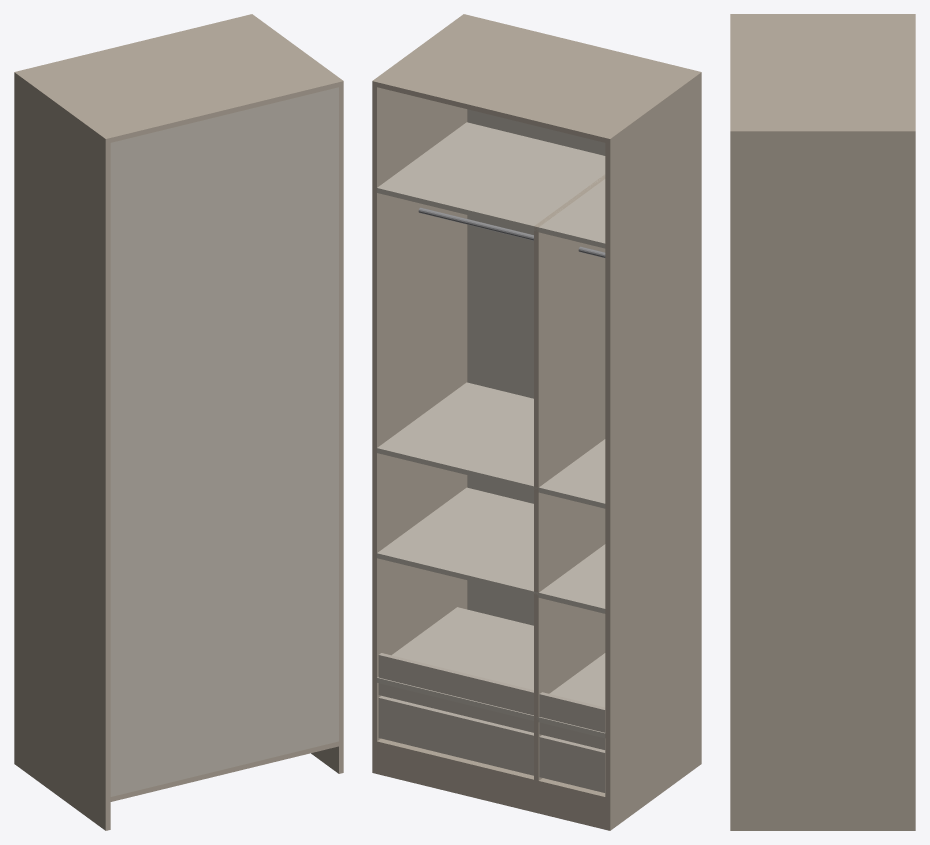
3 renders of one model, left to right at view 1: azimuth 30°, elevation 25°; view 2: azimuth 150°, elevation 25°; view 3: azimuth 270°, elevation 25°, orthographic.
Parts seen in each view (by area): view 1: 004_ARKALIK, 000_GOVDE_SOL, 002_GOVDE_UST, 001_GOVDE_SAG, 003_GOVDE_ALT; view 2: 000_GOVDE_SOL, 001_GOVDE_SAG, 006_IC_DIKME, 002_GOVDE_UST, 010_RAF_4, 004_ARKALIK, 008_RAF_2, 009_RAF_3, 011_CEKMECE_ON_1, 014_CEKMECE_KUTU_2, 013_CEKMECE_ON_2, 005_BAZA (+3 smaller); view 3: 001_GOVDE_SAG, 002_GOVDE_UST, 000_GOVDE_SOL.
Boxes of the visible parts, x1,y1,x2,y2 form: 004_ARKALIK: (110,87,338,796); 000_GOVDE_SOL: (14,71,110,830); 002_GOVDE_UST: (19,15,338,142); 001_GOVDE_SAG: (247,14,343,773); 003_GOVDE_ALT: (110,741,338,801); 000_GOVDE_SOL: (605,71,701,830); 001_GOVDE_SAG: (372,14,468,773); 006_IC_DIKME: (534,174,605,780); 002_GOVDE_UST: (377,15,696,142); 010_RAF_4: (377,122,605,248); 004_ARKALIK: (467,109,605,625); 008_RAF_2: (377,487,605,613); 009_RAF_3: (377,382,605,508); 011_CEKMECE_ON_1: (378,696,605,792); 014_CEKMECE_KUTU_2: (392,607,605,707); 013_CEKMECE_ON_2: (378,653,605,749); 005_BAZA: (377,746,605,829); 001_GOVDE_SAG: (730,129,915,830); 002_GOVDE_UST: (730,16,915,128); 000_GOVDE_SOL: (730,14,915,16).
Size of the model in its own units: 0.9 by 2.5 by 0.6.
